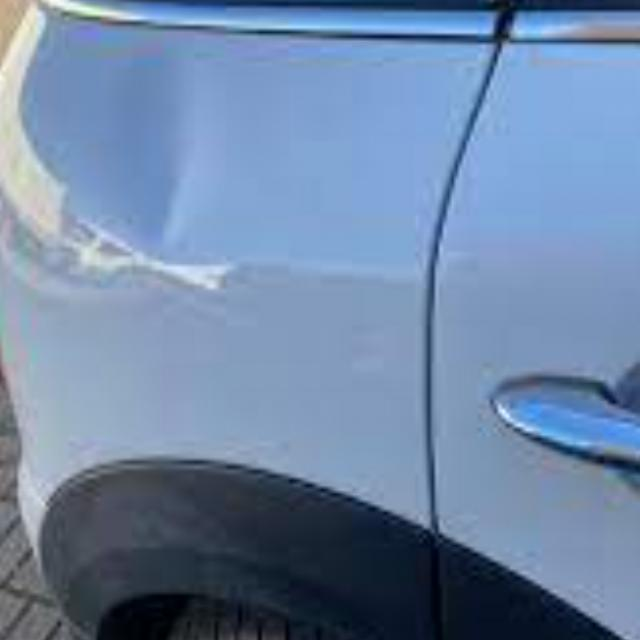dents: (72, 91, 257, 317)
